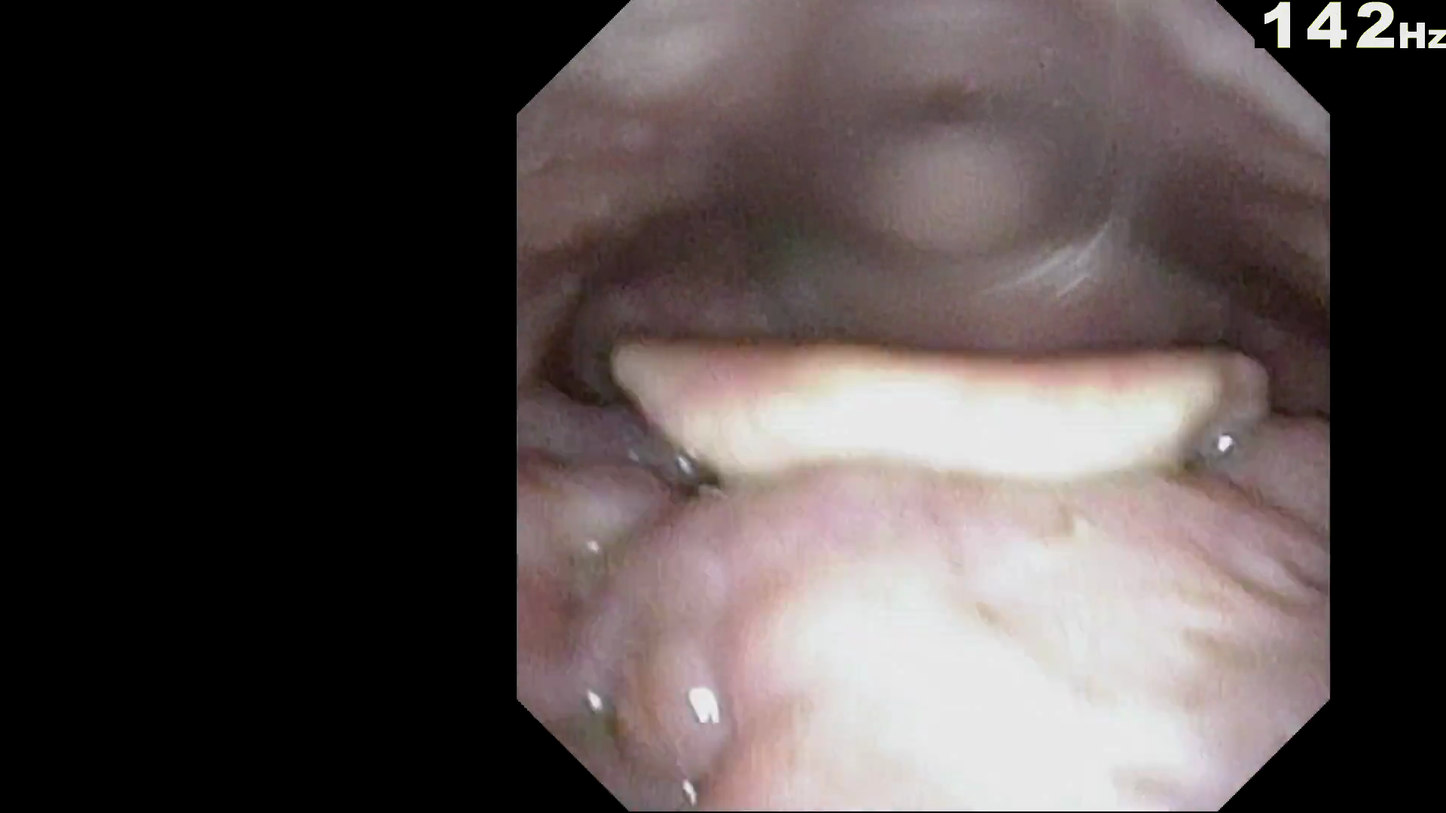epiglottis: (639, 367, 1254, 592)
